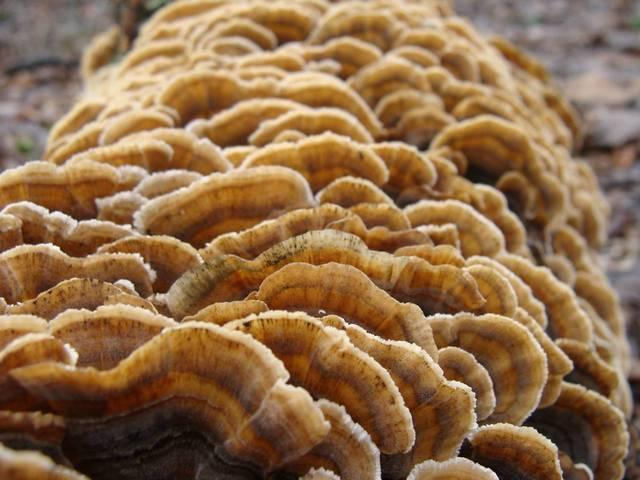poisonous_mushroom: (0, 0, 632, 479), (2, 318, 332, 479)
